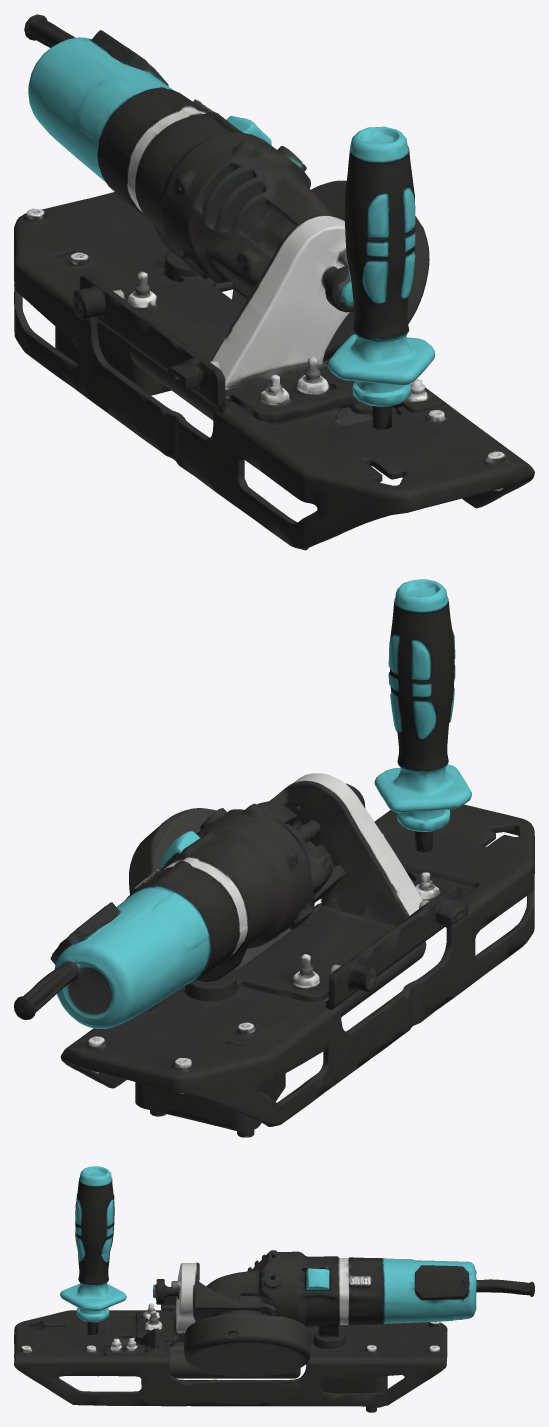
Rendered from mitre-jolly-cutting-system.glb.
3 renders of one model, top to bottom at view 1: azimuth 30°, elevation 25°; view 2: azimuth 150°, elevation 25°; view 3: azimuth 270°, elevation 25°, orthographic. The views are drawn at different scales.
Visible parts, largest first — view 1: tripo_node_83797b69-2852-42ce-bb26-76e3433170c1; view 2: tripo_node_83797b69-2852-42ce-bb26-76e3433170c1; view 3: tripo_node_83797b69-2852-42ce-bb26-76e3433170c1.
Boxes of the visible parts, bbox=[...] form: tripo_node_83797b69-2852-42ce-bb26-76e3433170c1: bbox=[14, 14, 534, 550]; tripo_node_83797b69-2852-42ce-bb26-76e3433170c1: bbox=[14, 579, 534, 1137]; tripo_node_83797b69-2852-42ce-bb26-76e3433170c1: bbox=[14, 1166, 534, 1412].
Bounding box in the file's own units: 0.3587 × 0.4838 × 1.
1 material, 1 textured.
